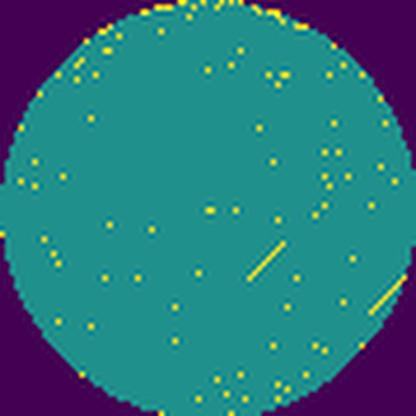Scratch: (365, 273, 408, 321), (246, 240, 288, 287)
